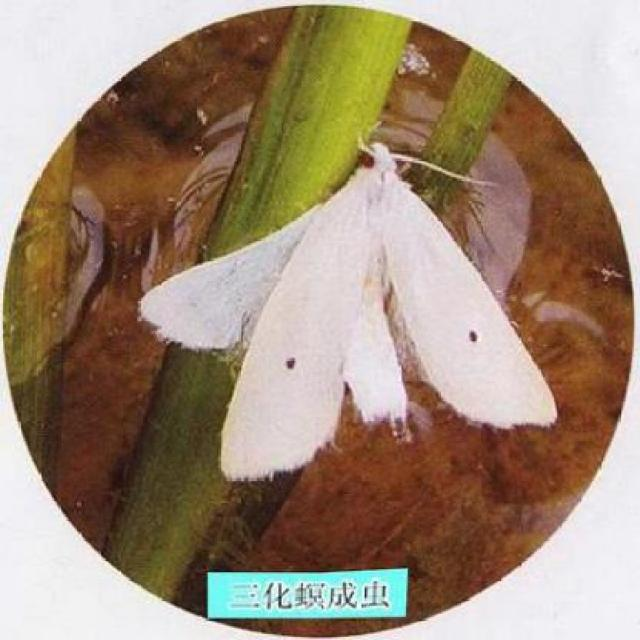stem-borer: (135, 137, 555, 479)
